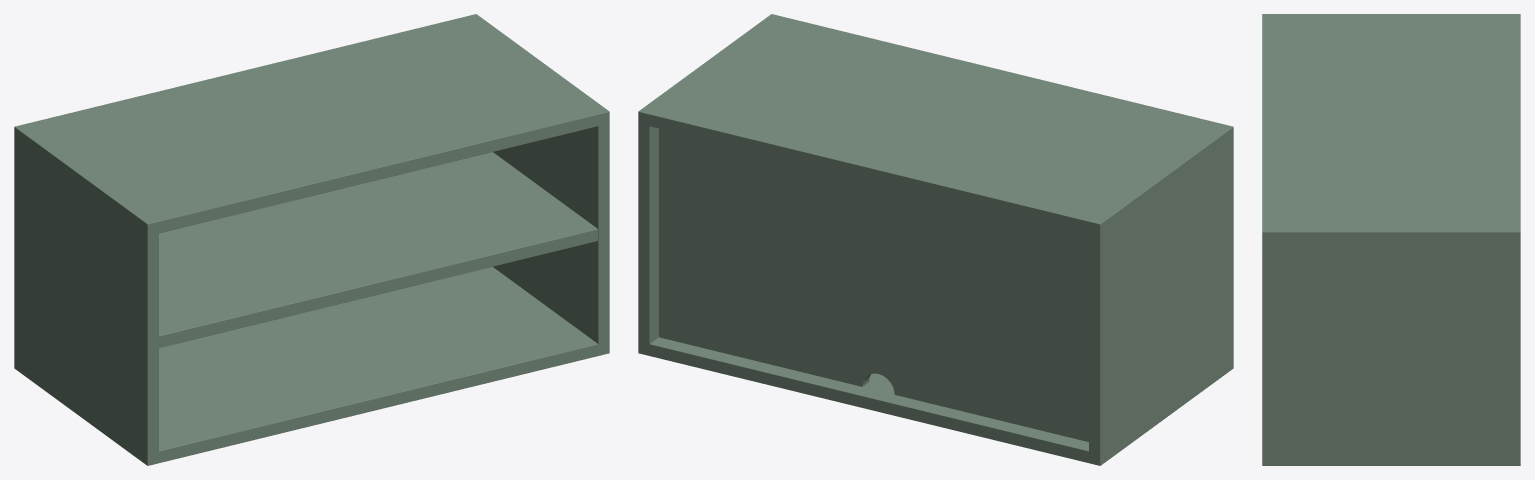
Rendered from MOD_2X1_S_B_AP_VA.glb.
The picture shows the model from 3 angles, left to right: view 1: azimuth 30°, elevation 25°; view 2: azimuth 150°, elevation 25°; view 3: azimuth 270°, elevation 25°; orthographic projection. The views are drawn at different scales.
Bounding box in the file's own units: 720 × 360 × 360.
